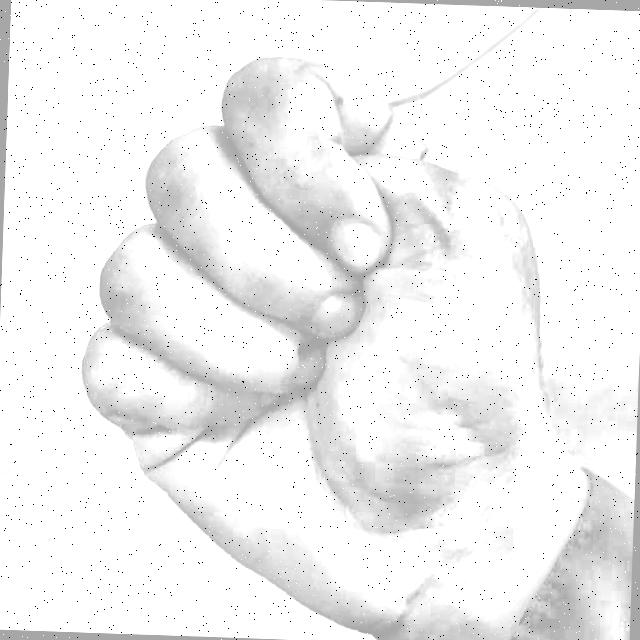To: (53, 20, 568, 640)
